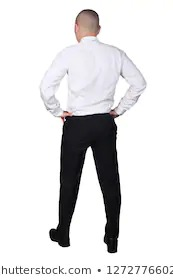F_dress pants: (56, 108, 126, 244)
F_shirt: (37, 44, 149, 114)
